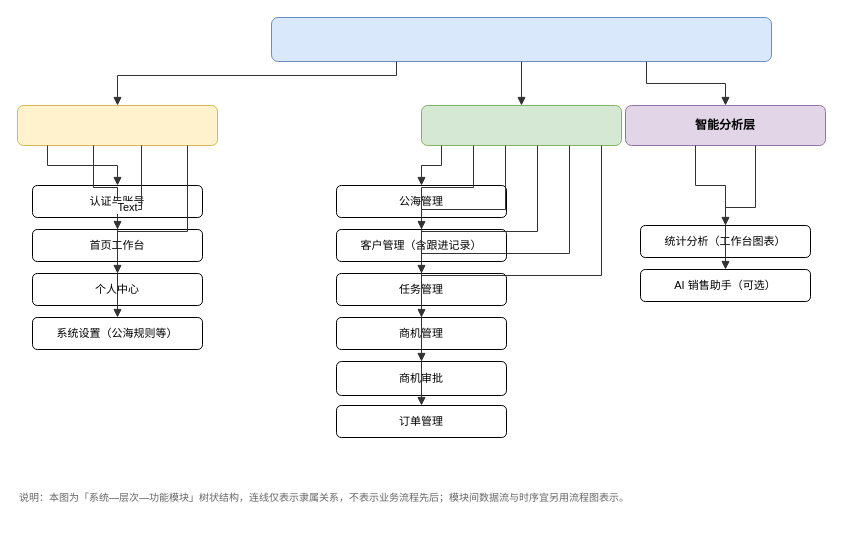
Some shapes in this 855 by 539 pixel diagram are drawn without their labels. Here are the shapes that lost their labels. From the top down, the centre of each, then its label:
At point 521,39: "基于 React 的贸易行业客户关系管理系统".
At point 117,125: "基础入口层".
At point 521,125: "业务运营层".
